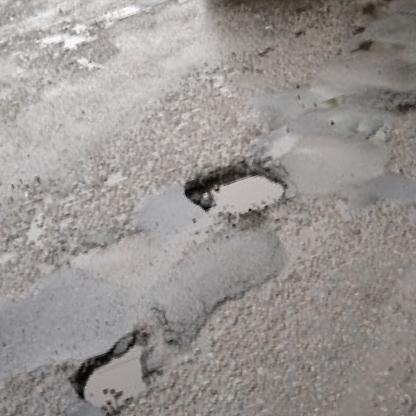pothole: (178, 145, 293, 234), (62, 328, 163, 416)
